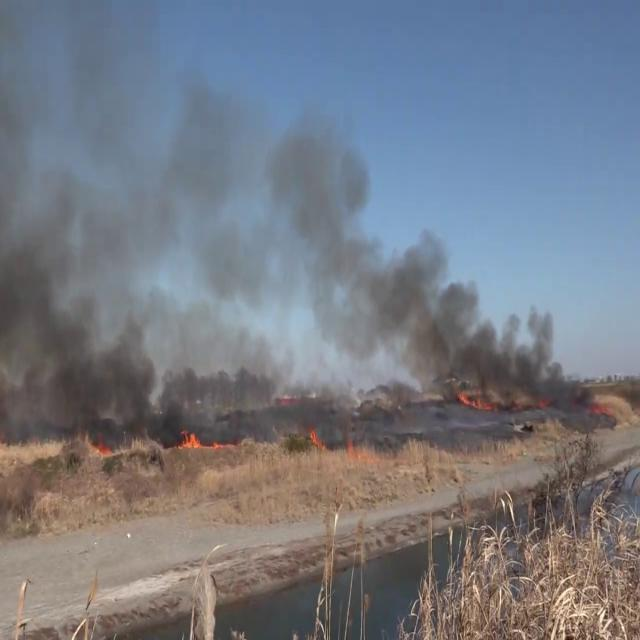Smoke: (1, 66, 567, 427)
